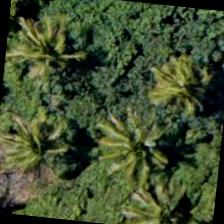Kelapa_Sawit: (2, 0, 102, 99), (75, 100, 174, 199), (141, 27, 223, 126), (0, 96, 77, 194), (117, 171, 213, 223)
